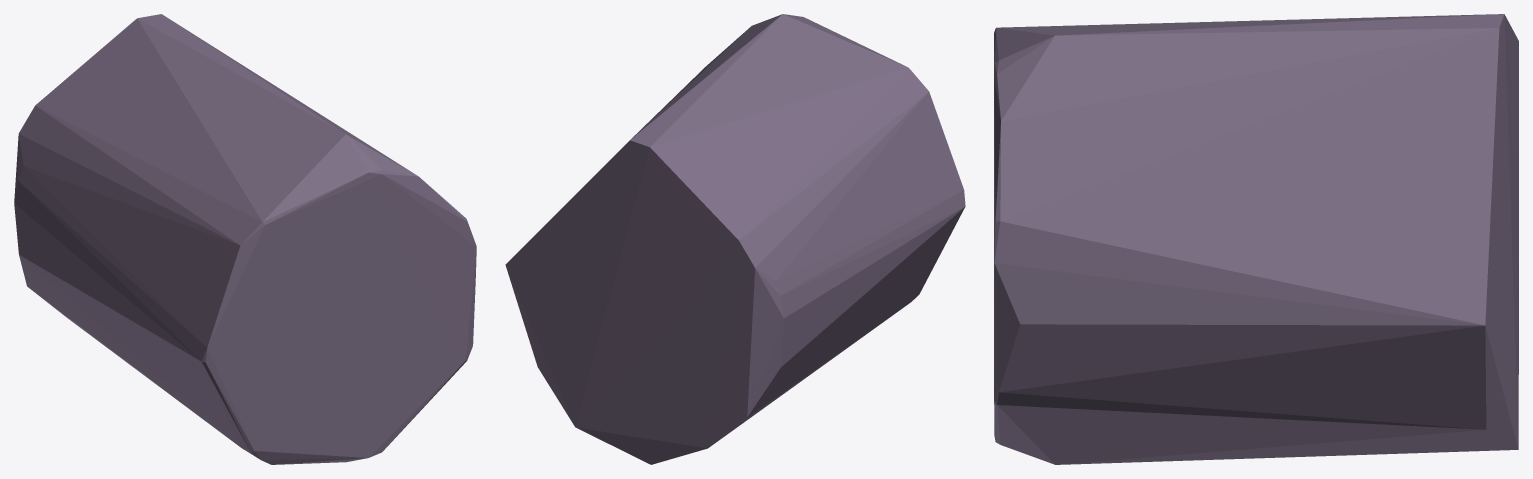
The model's file is wasteManagement_trashCan_roundPlastic_a01.glb.
3 renders of one model, left to right at view 1: azimuth 30°, elevation 25°; view 2: azimuth 150°, elevation 25°; view 3: azimuth 270°, elevation 25°, orthographic. The views are drawn at different scales.
Parts seen in each view (by area): view 1: geometry_0; view 2: geometry_0; view 3: geometry_0.
Boxes of the visible parts, x1,y1,x2,y2 form: geometry_0: (14, 14, 476, 464); geometry_0: (505, 14, 965, 464); geometry_0: (994, 14, 1518, 464).
Bounding box in the file's own units: 0.3926 × 0.4324 × 0.48.
